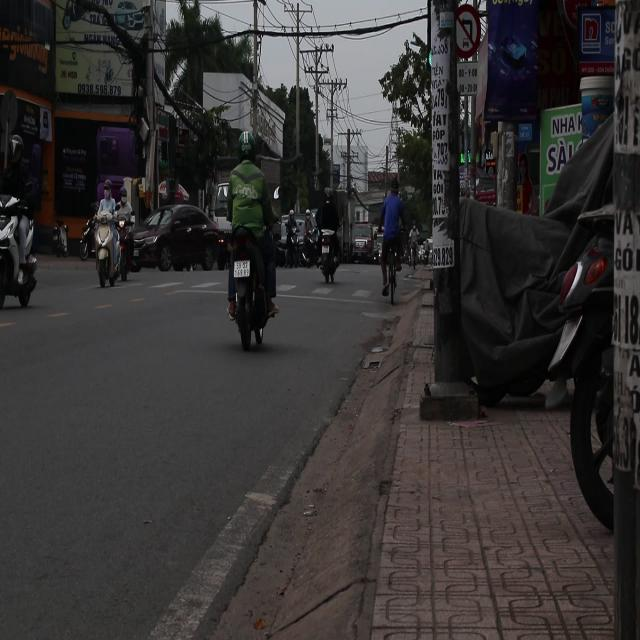car: (127, 204, 220, 274), (352, 238, 374, 262)
motorbike: (229, 221, 271, 353), (0, 186, 40, 310), (90, 212, 129, 289), (318, 222, 340, 292), (78, 209, 99, 260), (286, 215, 303, 267), (48, 220, 70, 256)
